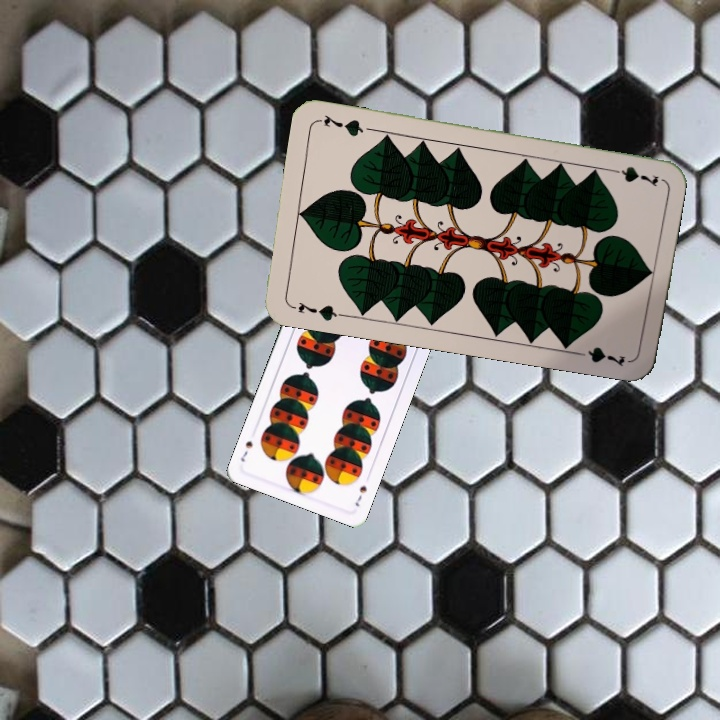G7: (602, 162, 661, 189), (286, 297, 345, 324)
S7: (351, 482, 369, 509)
